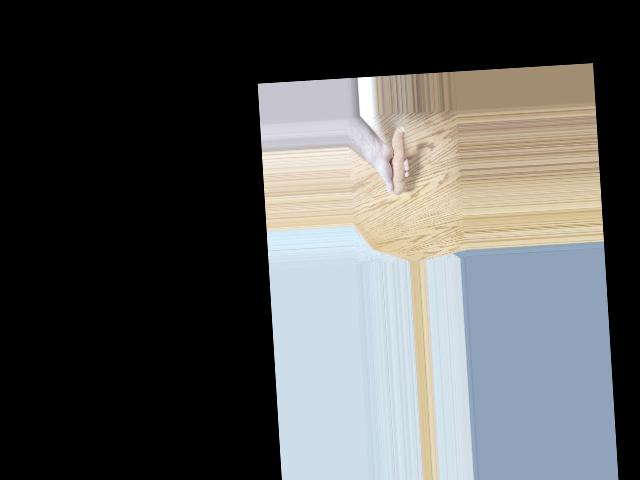sweet_potato: (383, 125, 407, 193)
